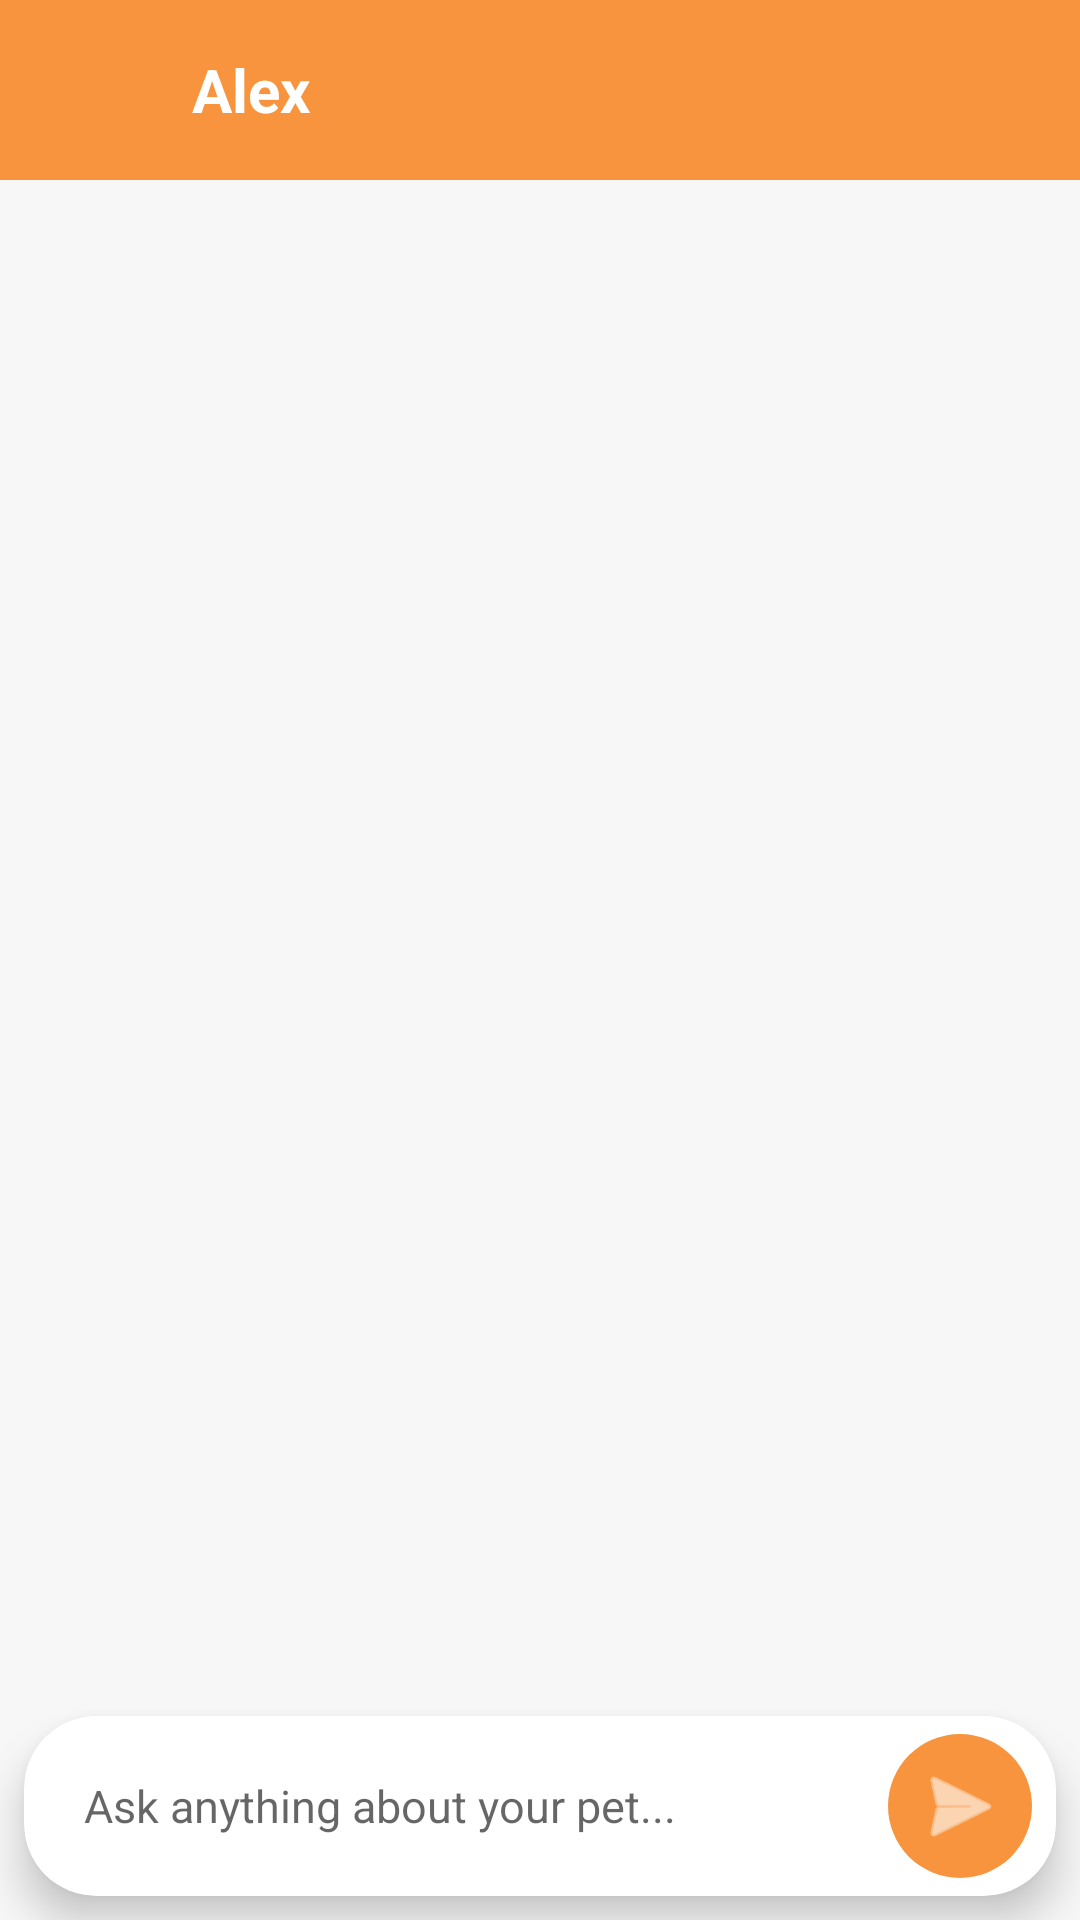

Icons on this 1080×1920 Android screen, each with its box as rect(x1, y1, x2, y2):
Send message: rect(888, 1734, 1032, 1878)
